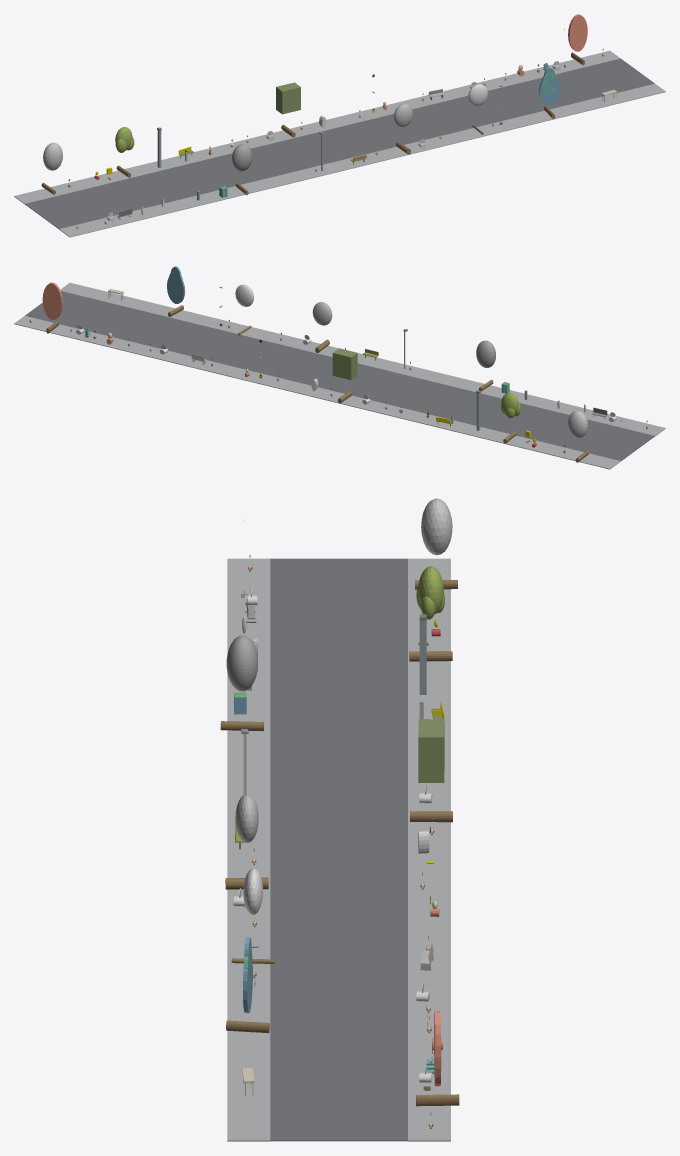
3 views of the same model, one above another, from view 1: azimuth 30°, elevation 25°; view 2: azimuth 150°, elevation 25°; view 3: azimuth 270°, elevation 25° (orthographic). The views are drawn at different scales.
Parts seen in each view (by area): view 1: road_slab, sidewalk_left, sidewalk_right, inst_0021, inst_0025, inst_0024, inst_0018, inst_0020, inst_0019, inst_0022, inst_0023; view 2: road_slab, sidewalk_right, sidewalk_left, inst_0021, inst_0025, inst_0024, inst_0018, inst_0020, inst_0019, inst_0022, inst_0023; view 3: road_slab, sidewalk_left, sidewalk_right, inst_0021, inst_0020, inst_0018, inst_0019, inst_0022, inst_0024, inst_0025, inst_0023.
Boxes of the visible parts, left/top/right/bottom form: road_slab: left=25, top=58, right=654, bottom=229; sidewalk_left: left=59, top=84, right=665, bottom=237; sidewalk_right: left=14, top=50, right=620, bottom=204; inst_0021: left=276, top=82, right=300, bottom=137; inst_0025: left=568, top=14, right=587, bottom=65; inst_0024: left=539, top=67, right=559, bottom=118; inst_0018: left=41, top=142, right=62, bottom=194; inst_0020: left=232, top=144, right=252, bottom=195; inst_0019: left=115, top=127, right=134, bottom=177; inst_0022: left=393, top=103, right=412, bottom=154; inst_0023: left=468, top=84, right=487, bottom=134; road_slab: left=25, top=291, right=654, bottom=461; sidewalk_right: left=14, top=316, right=620, bottom=469; sidewalk_left: left=60, top=282, right=665, bottom=436; inst_0021: left=332, top=348, right=357, bottom=403; inst_0025: left=42, top=282, right=62, bottom=333; inst_0024: left=167, top=266, right=184, bottom=316; inst_0018: left=568, top=410, right=588, bottom=462; inst_0020: left=476, top=340, right=495, bottom=391; inst_0019: left=500, top=392, right=520, bottom=443; inst_0022: left=312, top=302, right=332, bottom=352; inst_0023: left=235, top=284, right=253, bottom=335; road_slab: left=270, top=558, right=407, bottom=1141; sidewalk_left: left=227, top=558, right=270, bottom=1141; sidewalk_right: left=408, top=558, right=450, bottom=1141; inst_0021: left=410, top=719, right=452, bottom=822; inst_0020: left=220, top=635, right=263, bottom=731; inst_0018: left=415, top=498, right=457, bottom=589; inst_0019: left=409, top=566, right=452, bottom=661; inst_0022: left=225, top=794, right=268, bottom=889; inst_0024: left=226, top=937, right=269, bottom=1033; inst_0025: left=416, top=1011, right=459, bottom=1106; inst_0023: left=231, top=868, right=274, bottom=963.
Bounding box in the file's own units: 80 × 6.08 × 13.86.
